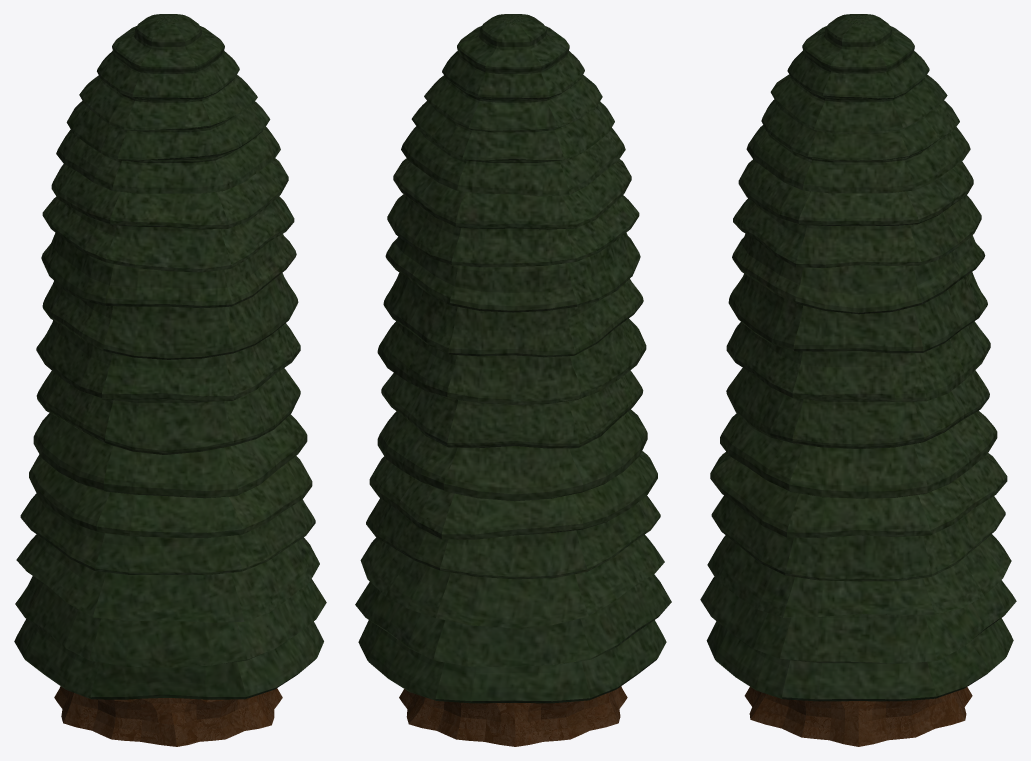
File: DAEpinetree.dae
3 renders of one model, left to right at view 1: azimuth 30°, elevation 25°; view 2: azimuth 150°, elevation 25°; view 3: azimuth 270°, elevation 25°, orthographic.
Visible parts, largest first — view 1: TreeLow; view 2: TreeLow; view 3: TreeLow.
Part boxes in pixels (x1,y1,x2,y2): TreeLow: (14, 14, 326, 746); TreeLow: (355, 14, 671, 746); TreeLow: (700, 14, 1016, 746).
Bounding box in the file's own units: 1.46 × 1.59 × 3.75.
Materials: 1 (1 with a texture image).
